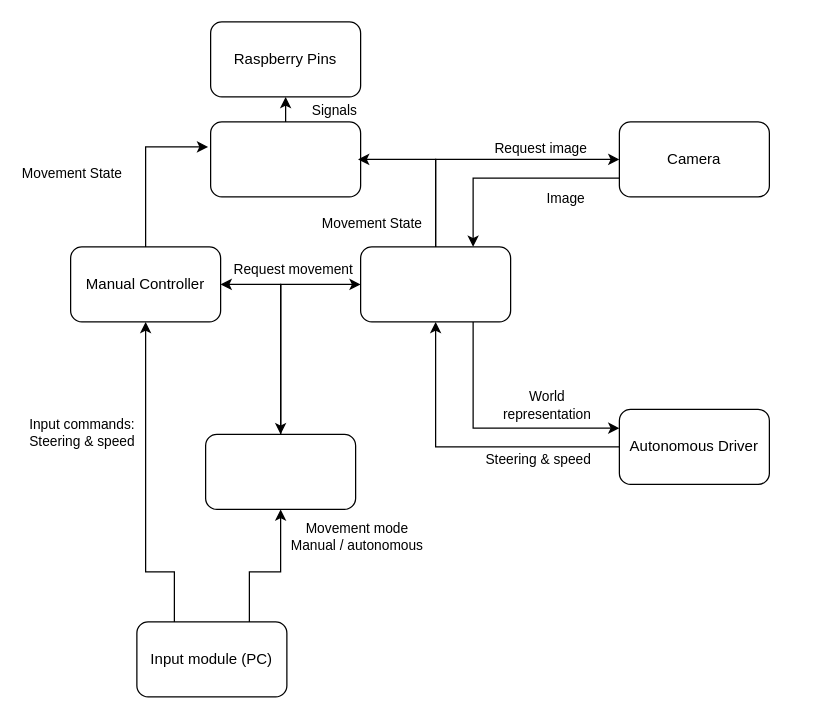
Image size: 820x719. Some labels were removed from this diagram. Each missing label, with the centre of its shape:
"Autonomous controller" goes at (x=435, y=284).
"Controller" goes at (x=280, y=471).
"Driver" goes at (x=285, y=159).
